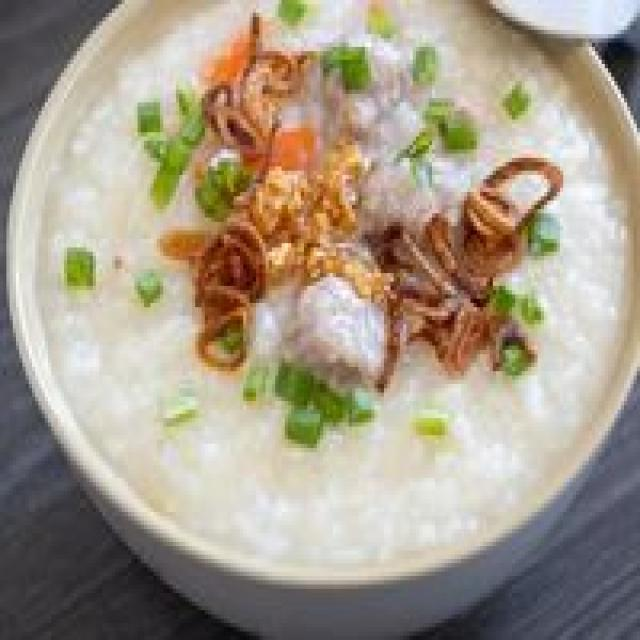bubur ayam: (38, 0, 629, 564)
mangkuk: (6, 0, 637, 640)
